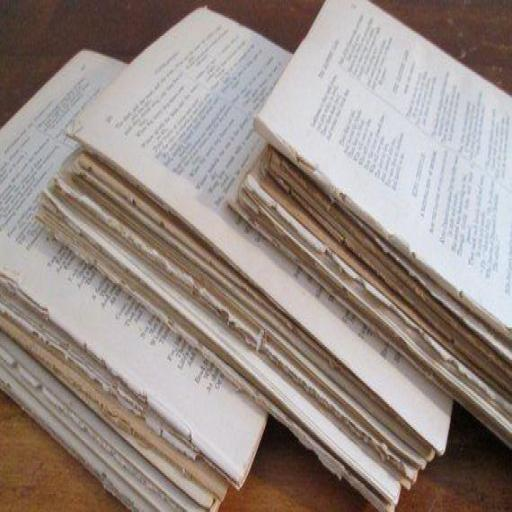paper: (35, 6, 453, 512), (226, 0, 512, 453), (0, 47, 269, 512)
